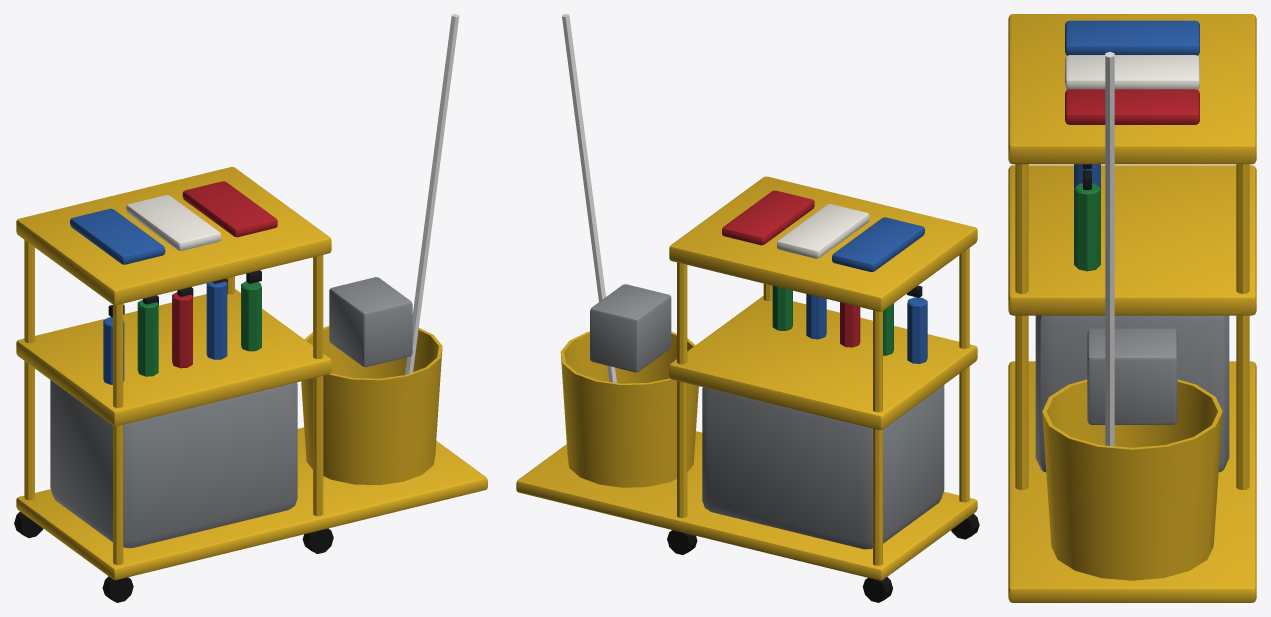
Rendered from tideline_cleaning_cart.glb.
3 renders of one model, left to right at view 1: azimuth 30°, elevation 25°; view 2: azimuth 150°, elevation 25°; view 3: azimuth 270°, elevation 25°, orthographic. The views are drawn at different scales.
Parts seen in each view (by area): view 1: tideline_cleaning_cart; view 2: tideline_cleaning_cart; view 3: tideline_cleaning_cart.
Boxes of the visible parts, left/top/right/bottom form: tideline_cleaning_cart: left=14, top=14, right=487, bottom=602; tideline_cleaning_cart: left=516, top=14, right=979, bottom=602; tideline_cleaning_cart: left=1008, top=14, right=1256, bottom=602.
Size of the model in its own units: 1.24 by 1.43 by 0.55.
